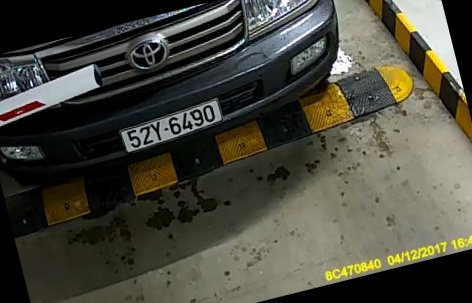plate: (114, 93, 229, 159)
